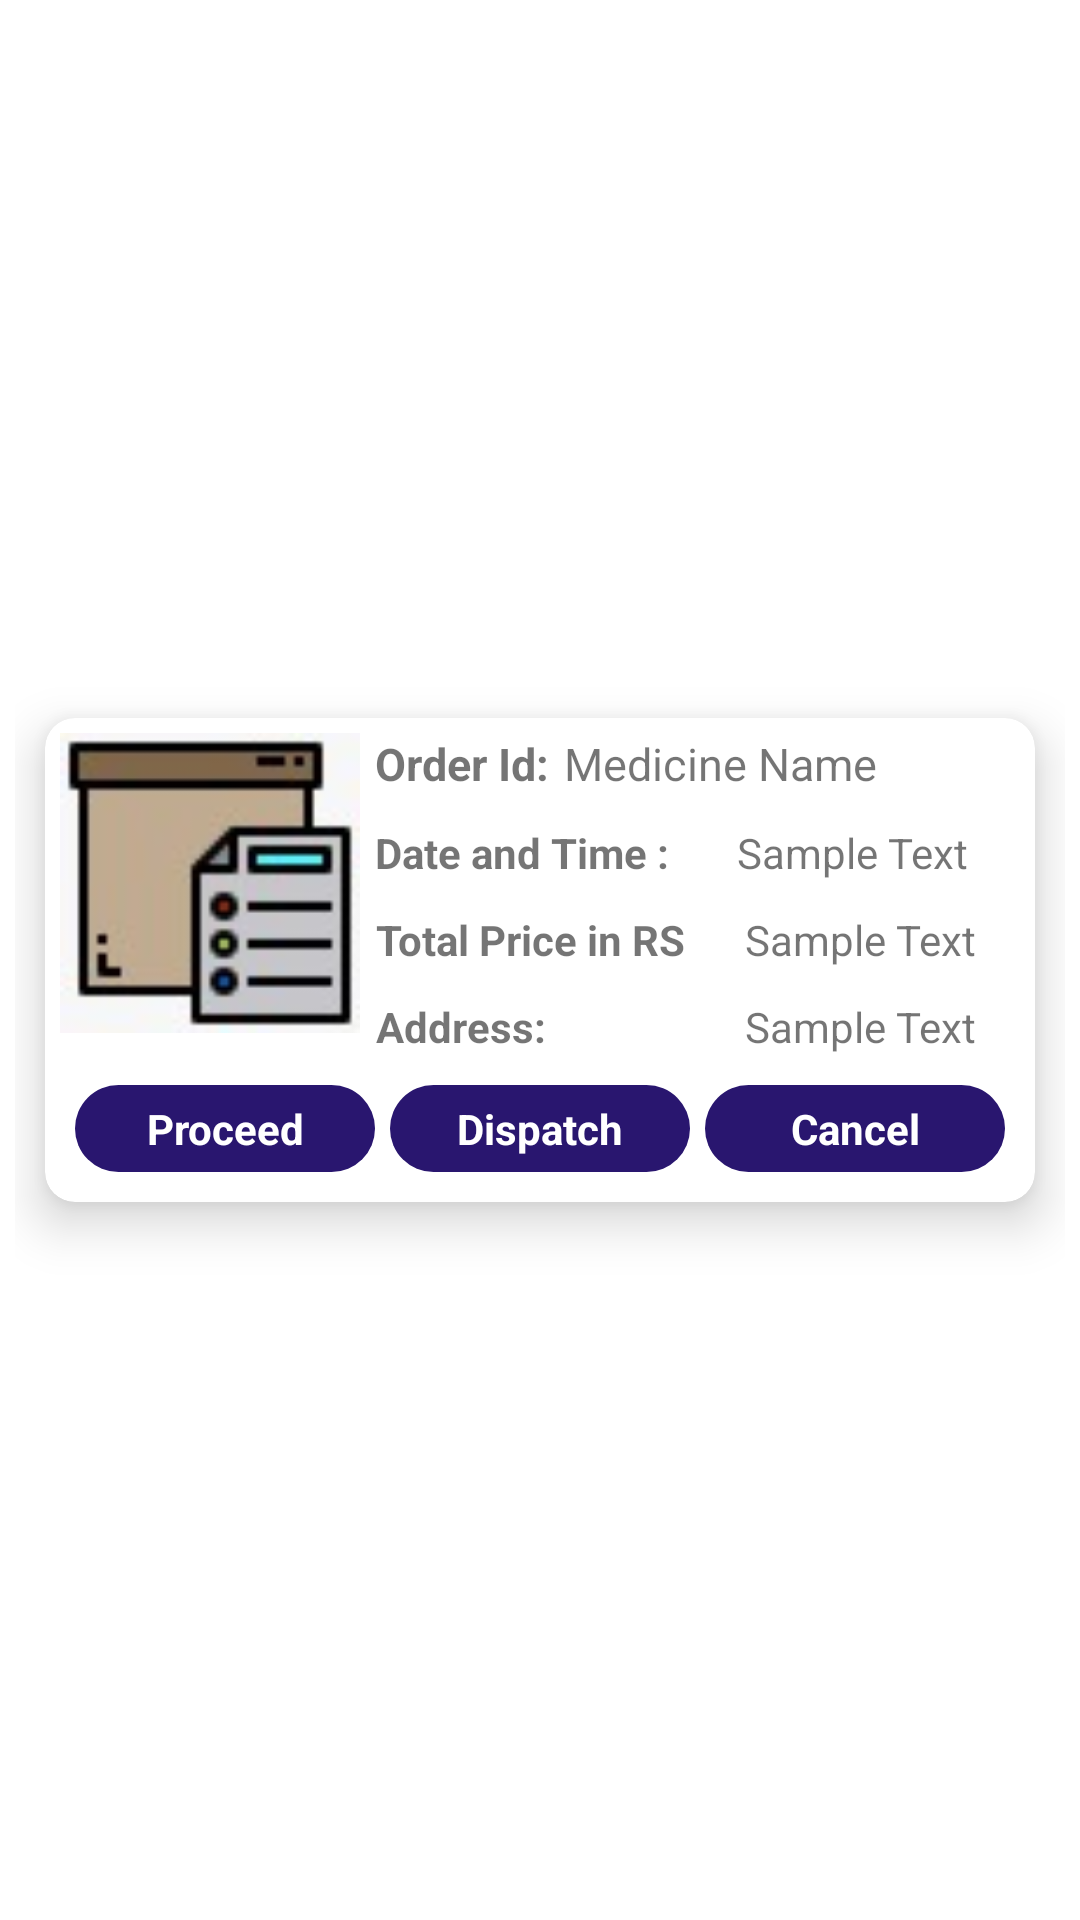

Point at icon controls on the screen. Image size 1080*1920, points as [x,y].
box: [210,883]
